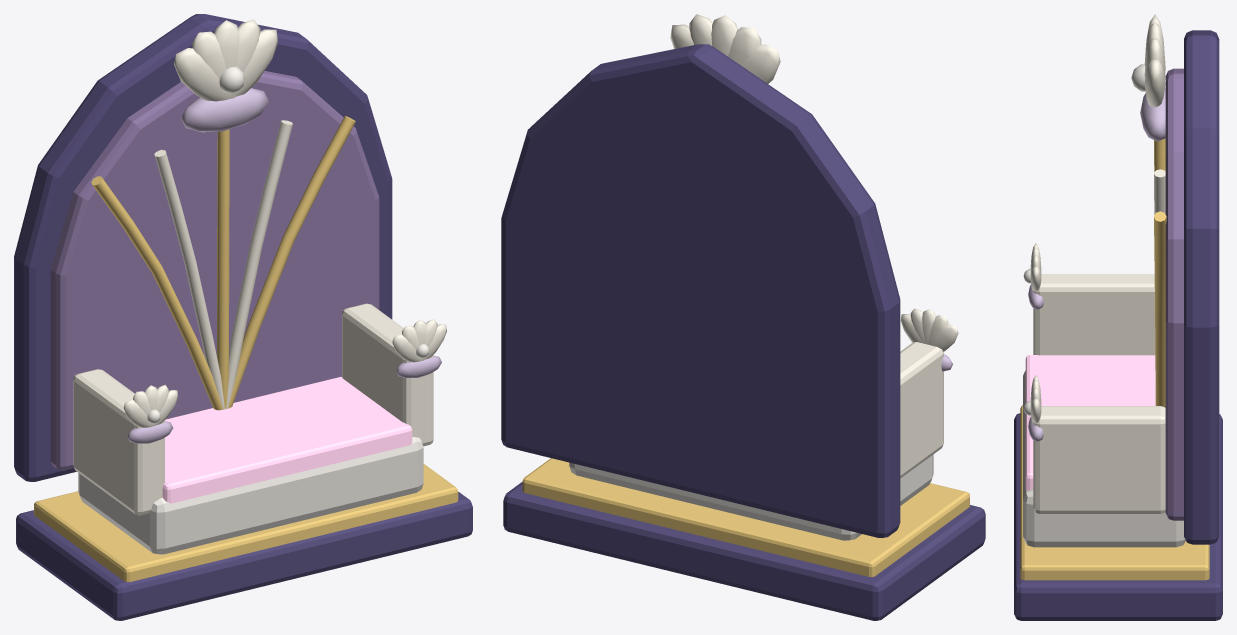
The model's file is pearl_shell_throne.glb.
3 renders of one model, left to right at view 1: azimuth 30°, elevation 25°; view 2: azimuth 150°, elevation 25°; view 3: azimuth 270°, elevation 25°, orthographic. The views are drawn at different scales.
Visible parts, largest first — view 1: pearl_shell_throne.001; view 2: pearl_shell_throne.001; view 3: pearl_shell_throne.001.
Part boxes in pixels (x1=…): pearl_shell_throne.001: x1=14, y1=14, x2=472, y2=620; pearl_shell_throne.001: x1=501, y1=14, x2=985, y2=620; pearl_shell_throne.001: x1=1014, y1=14, x2=1222, y2=620.
Bounding box in the file's own units: 8.7 × 11.53 × 4.25.
